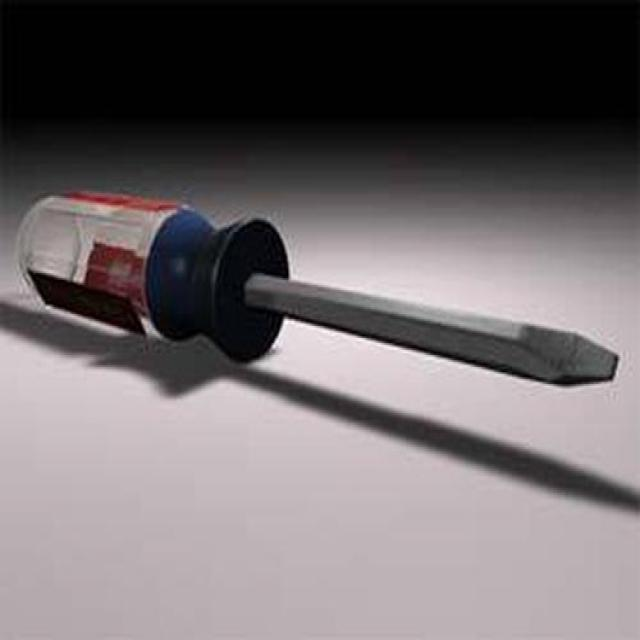screw driver: (4, 155, 640, 451)
